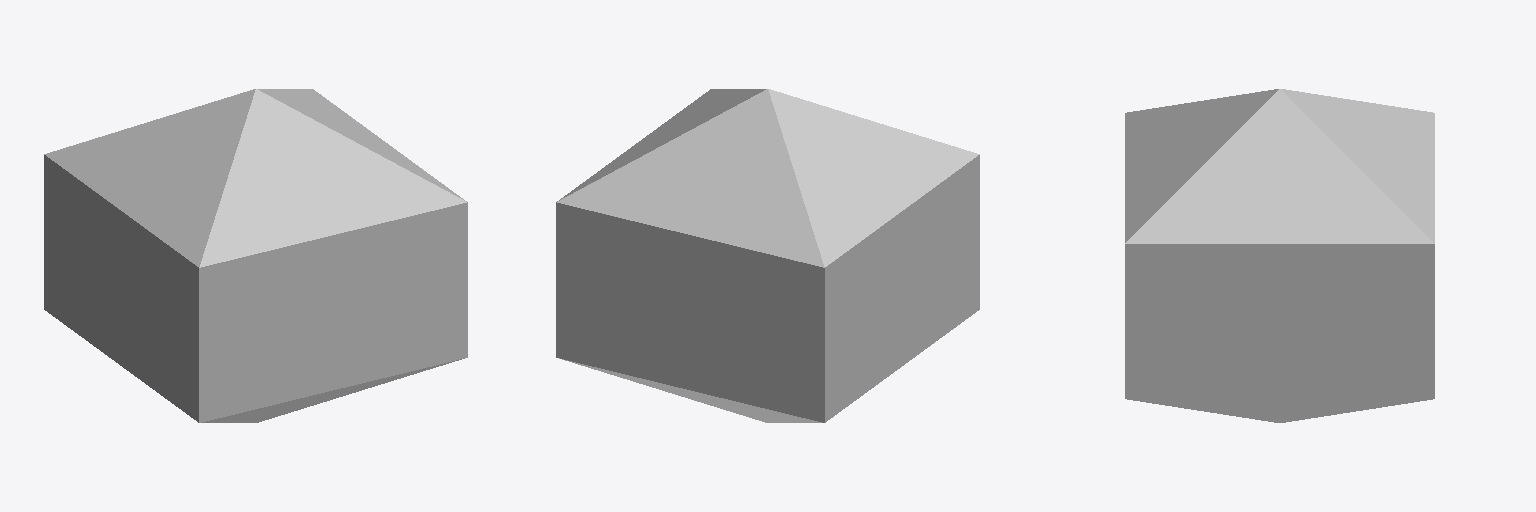
Rendered from mine.obj.
3 views of the same model, side by side, from view 1: azimuth 30°, elevation 25°; view 2: azimuth 150°, elevation 25°; view 3: azimuth 270°, elevation 25° (orthographic).
Visible parts, largest first — view 1: mine; view 2: mine; view 3: mine.
Part boxes in pixels (x1,y1,x2,y2): mine: (44, 89, 467, 422); mine: (556, 89, 979, 422); mine: (1125, 89, 1434, 422).
Size of the model in its own units: 2.34 by 2.78 by 2.34.